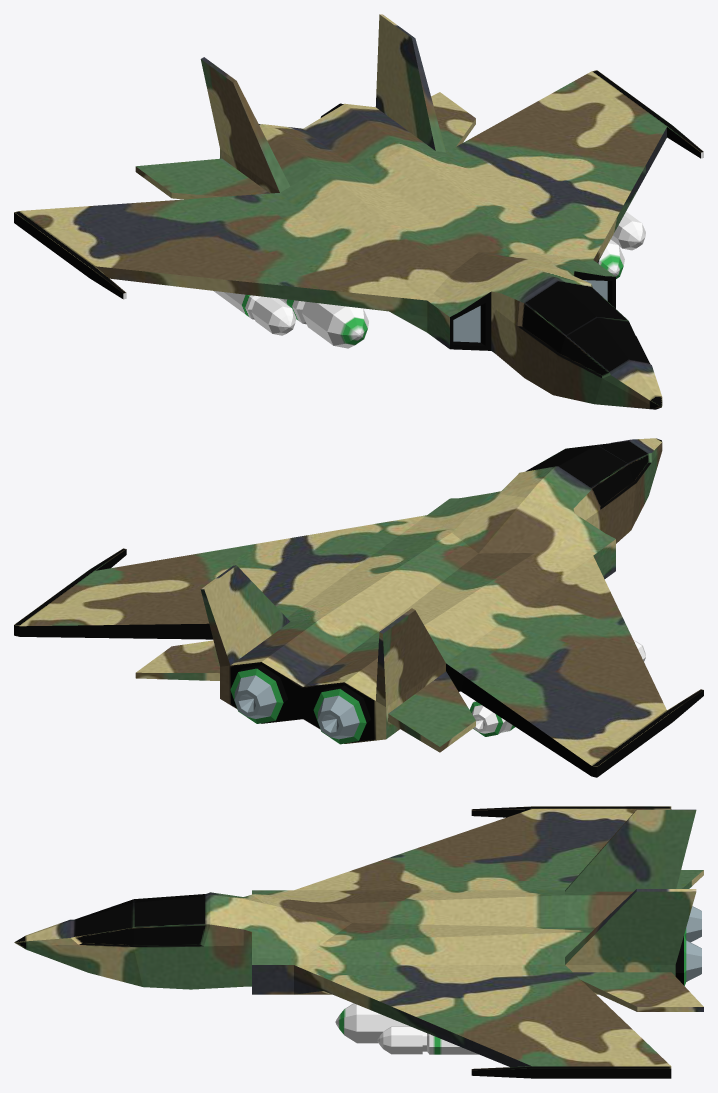
File: GGG.fbx
3 renders of one model, top to bottom at view 1: azimuth 30°, elevation 25°; view 2: azimuth 150°, elevation 25°; view 3: azimuth 270°, elevation 25°, orthographic. The views are drawn at different scales.
Visible parts, largest first — view 1: Jet_Cube_024; view 2: Jet_Cube_024; view 3: Jet_Cube_024.
Part boxes in pixels (bbox=[...]): Jet_Cube_024: bbox=[14, 14, 703, 409]; Jet_Cube_024: bbox=[14, 438, 703, 777]; Jet_Cube_024: bbox=[14, 806, 703, 1078].
Bounding box in the file's own units: 9.95 × 2.4 × 11.07.
